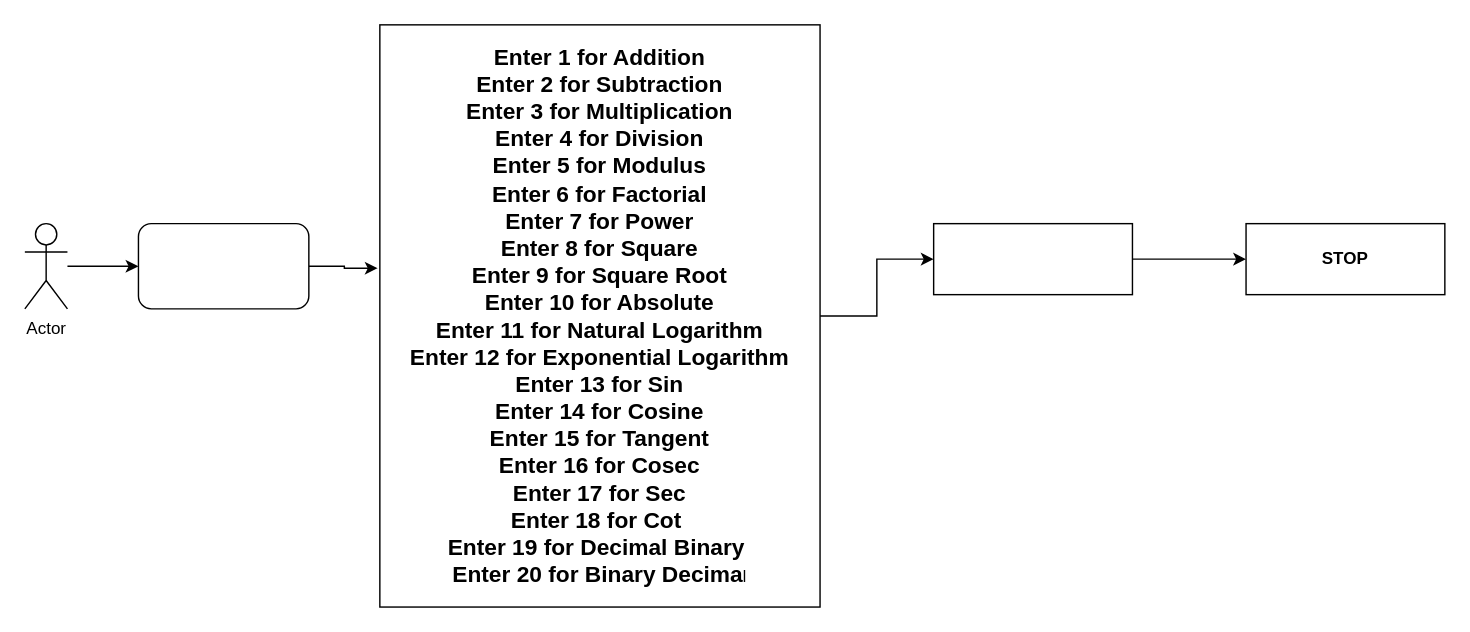
This 1470x632 diagram has some shape labels left out. Here are the shapes that lost their labels. From the top down, the box of each, then its label:
(137, 222, 309, 309): ENTER THE OPTION
(932, 222, 1132, 295): OUTPUT
